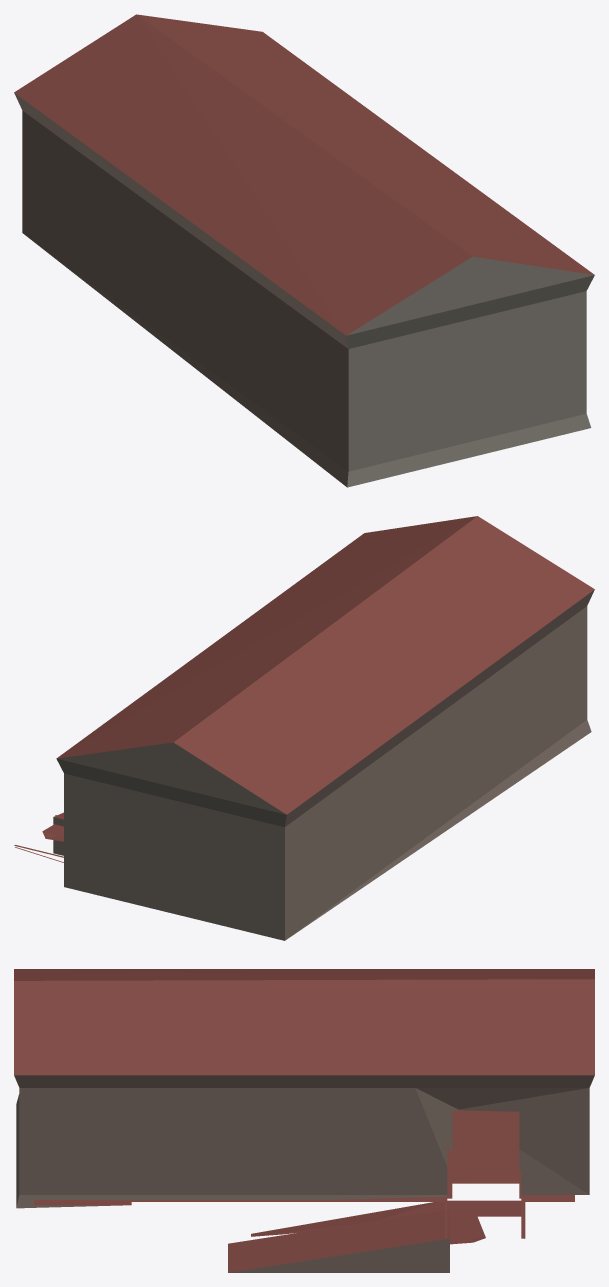
File: rural-mobile-home.far-facades-v3.lod2.glb
3 views of the same model, one above another, from view 1: azimuth 30°, elevation 25°; view 2: azimuth 150°, elevation 25°; view 3: azimuth 270°, elevation 25° (orthographic). The views are drawn at different scales.
Visible parts, largest first — view 1: rural-mobile-home; view 2: rural-mobile-home; view 3: rural-mobile-home.
Part boxes in pixels (x1,y1,x2,y2): rural-mobile-home: (14,14,594,487); rural-mobile-home: (14,516,594,940); rural-mobile-home: (14,969,594,1272).
Size of the model in its own units: 6.62 by 4.39 by 11.38.
